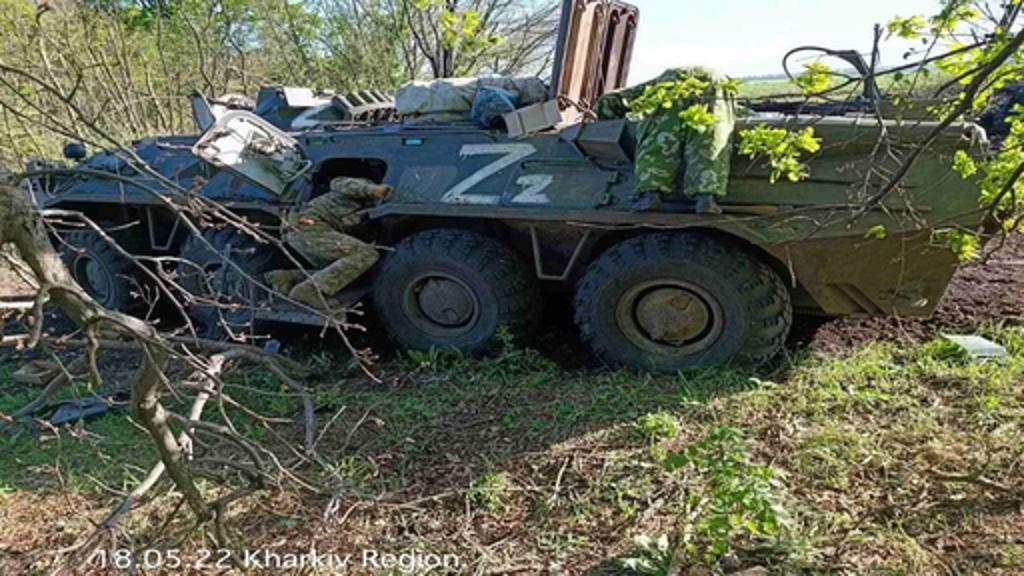APC-IFV: (0, 2, 996, 394)
